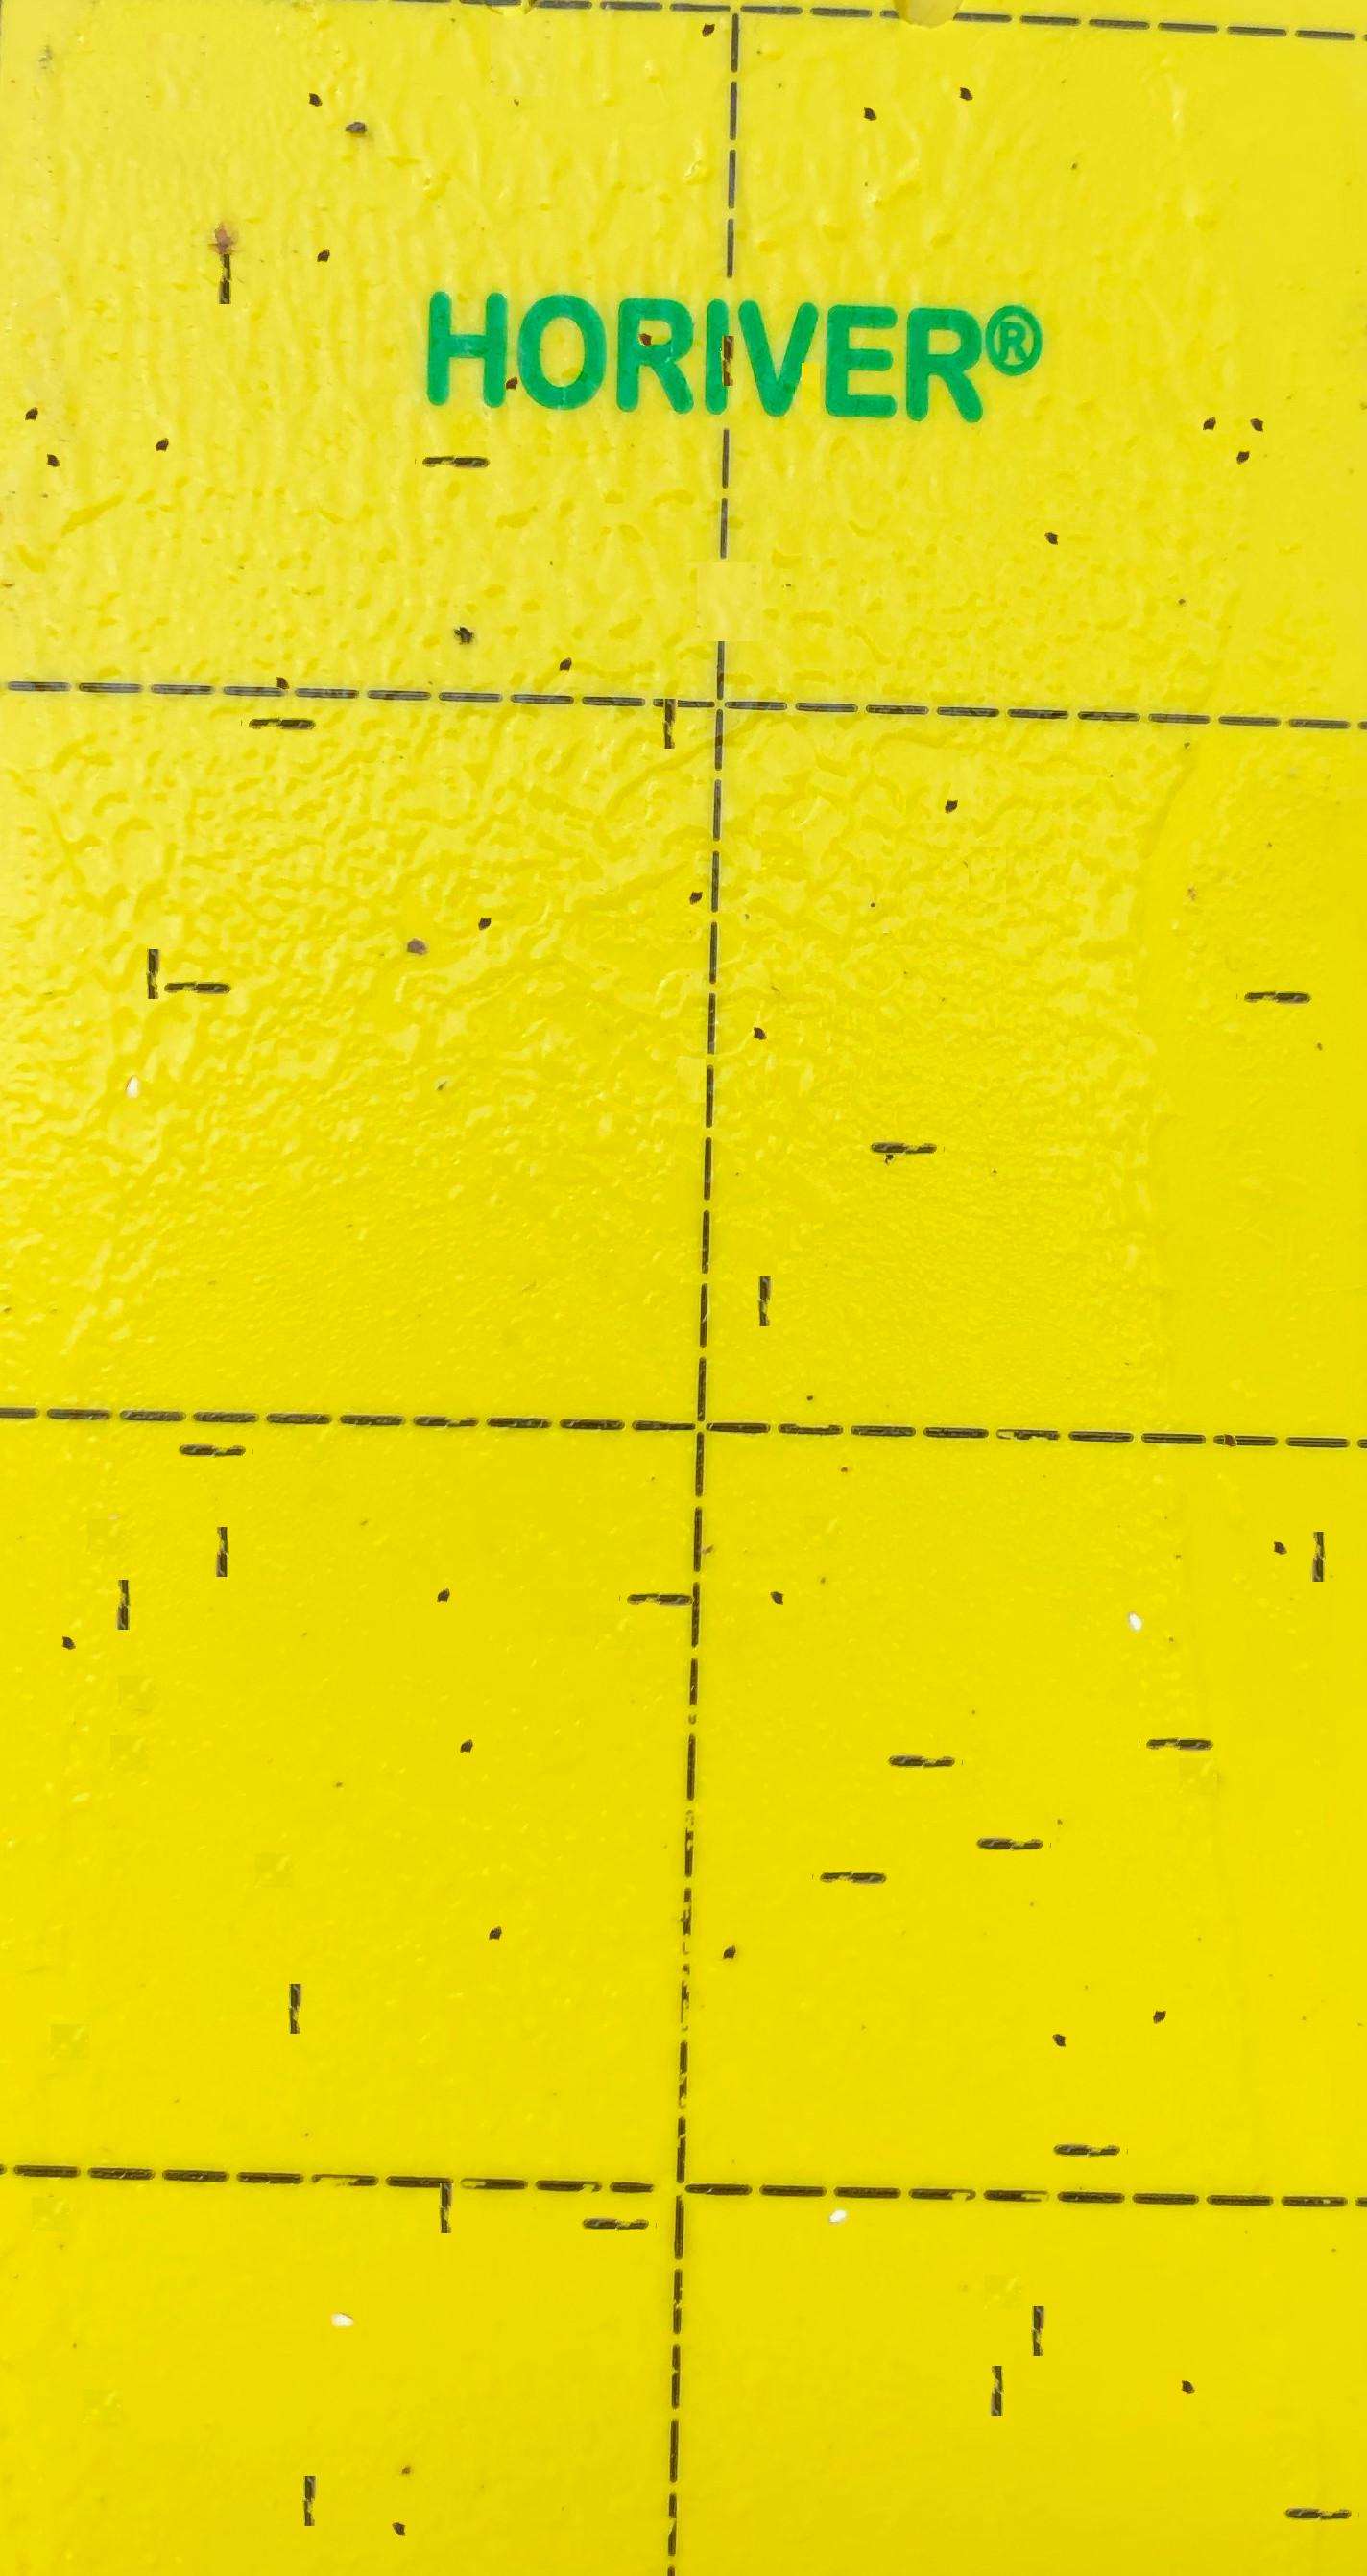white_fly: (1113, 1550, 1156, 1600), (818, 2145, 861, 2193), (320, 2263, 361, 2300), (111, 1032, 152, 1070)
